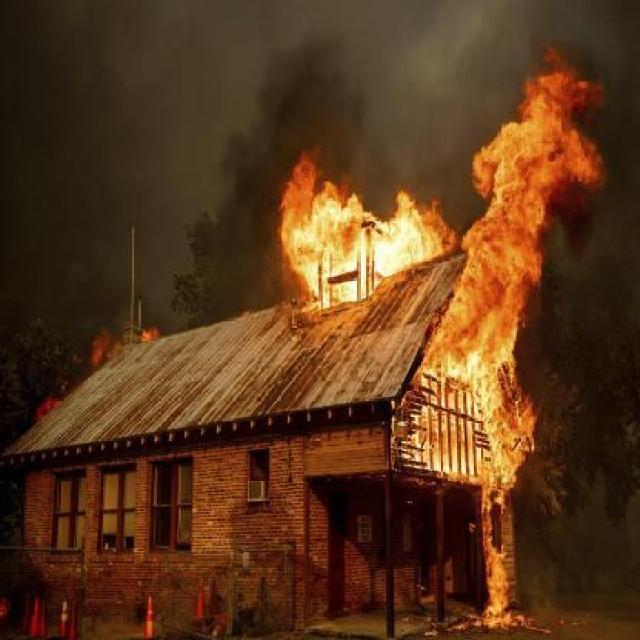Fire: (398, 286, 534, 632), (474, 45, 604, 362), (276, 140, 454, 295), (94, 326, 162, 369)
Smoke: (16, 8, 192, 306), (233, 4, 437, 140)
